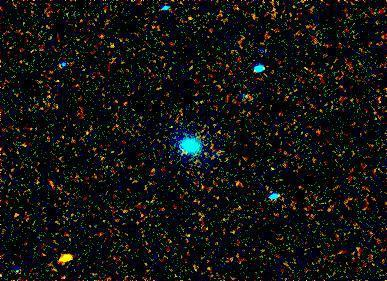star: (52, 247, 82, 277)
